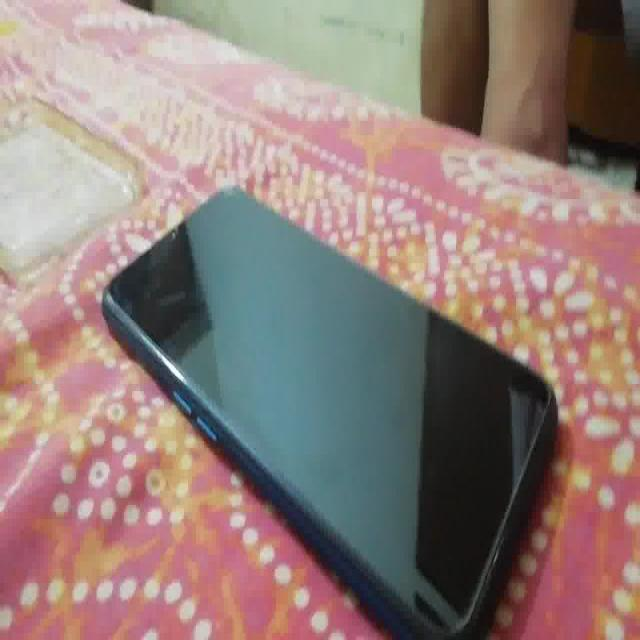Phone: (99, 180, 556, 636)
